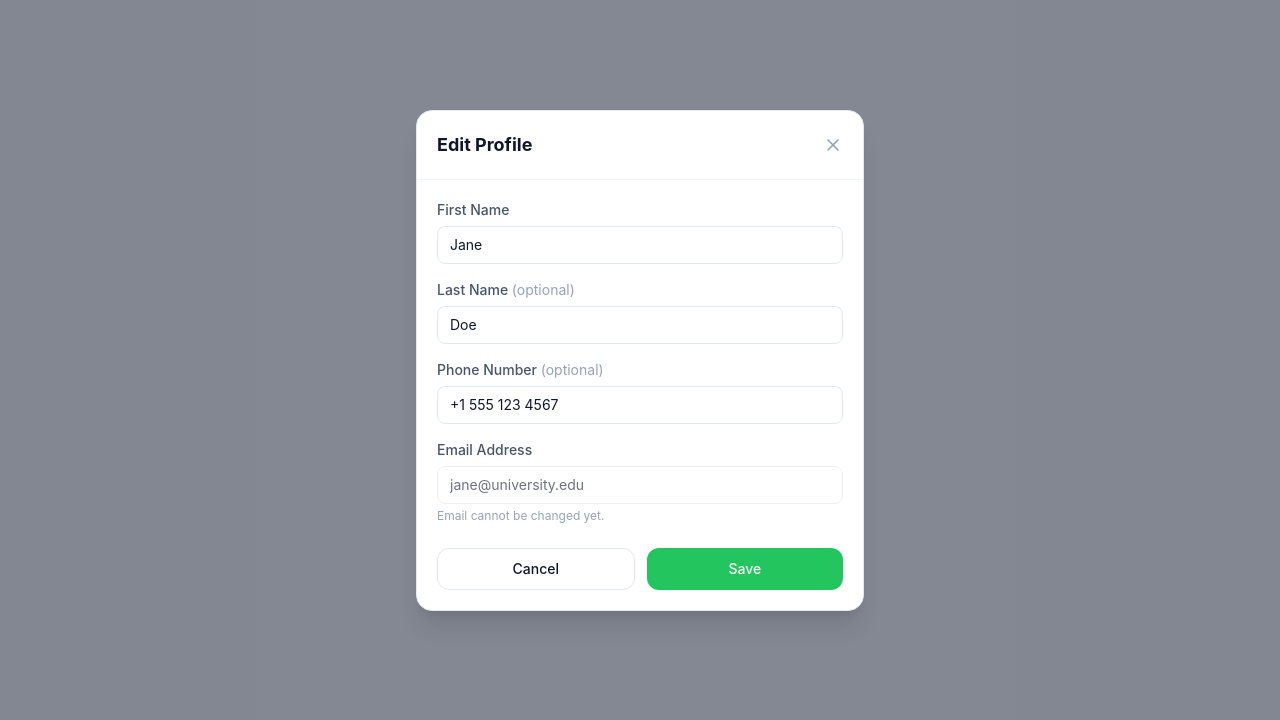
EditProfileModal › surfaces API errors inline
This screenshot has width=1280, height=720.
Replace the text in the field labelled "First Name" with "Janet" at [640, 244], box [437,226,843,264]
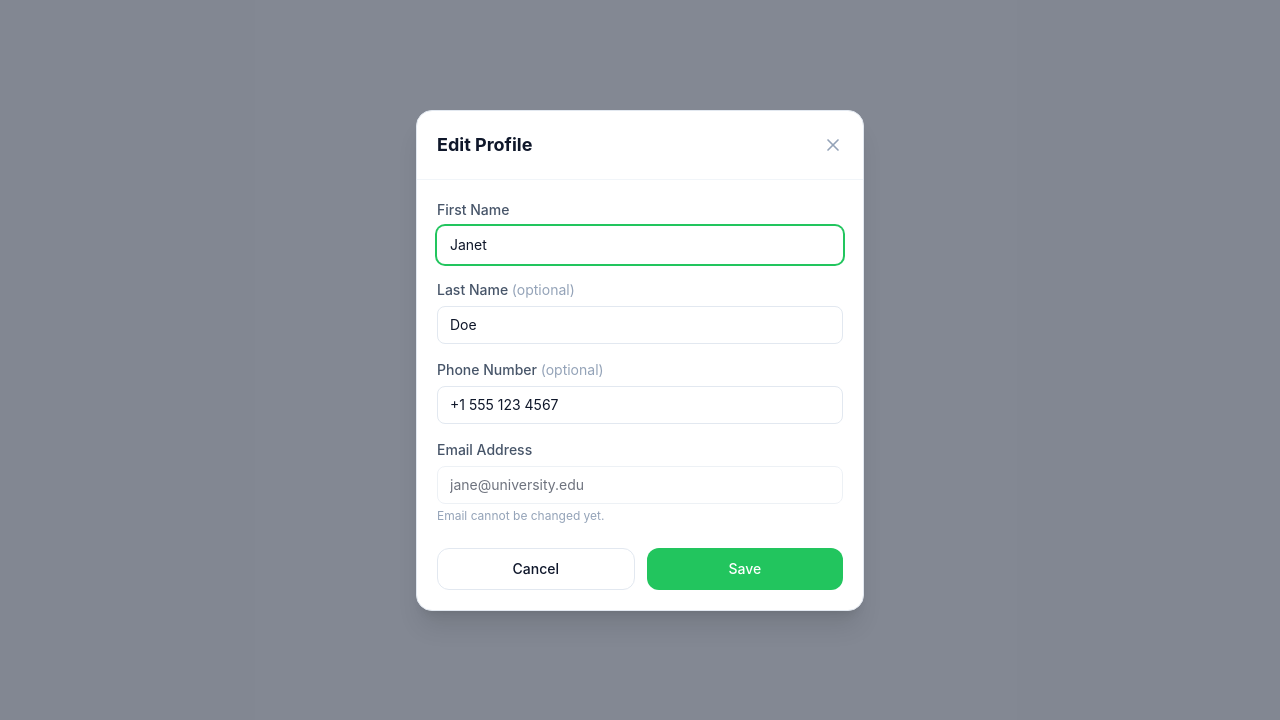
Click the button "Save" at [745, 568], box [647,548,843,590]
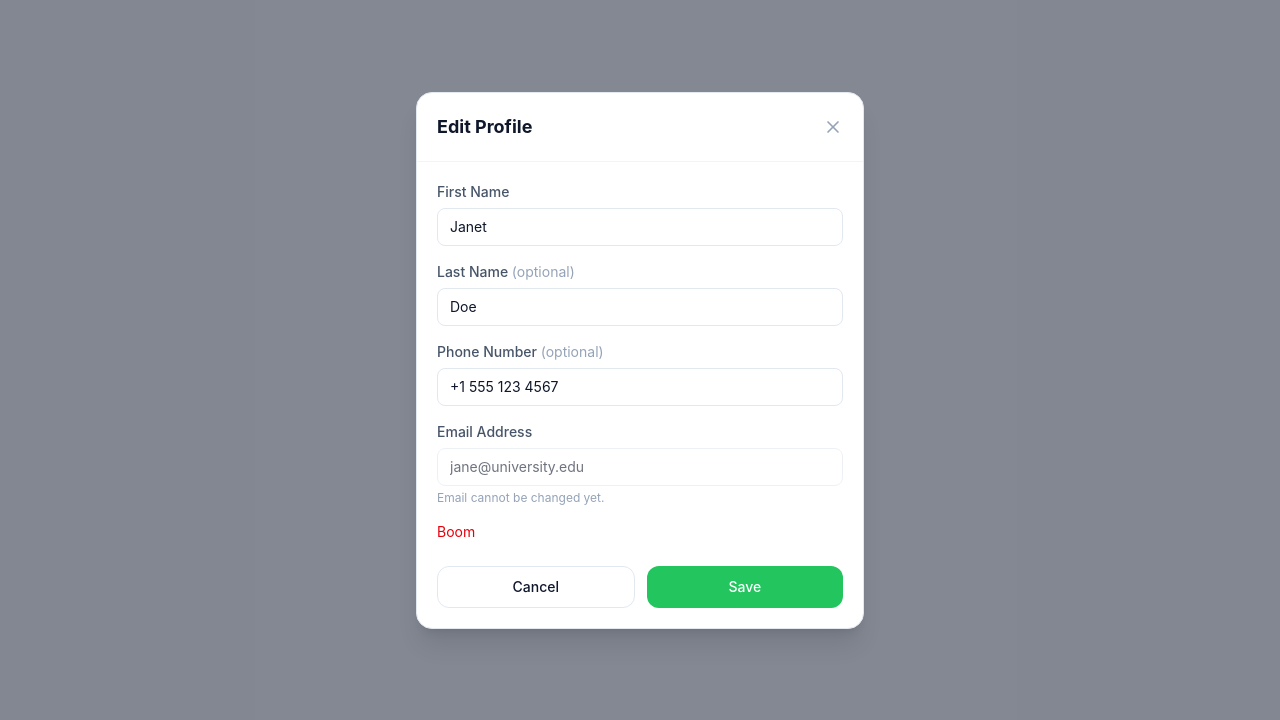
Expected: the text "Boom" is shown, [437,522,475,540]
